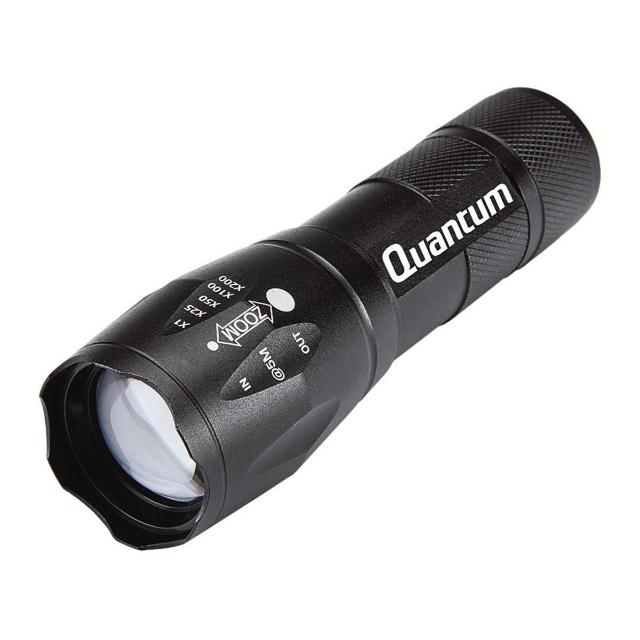Flashlight: (27, 80, 609, 558)
